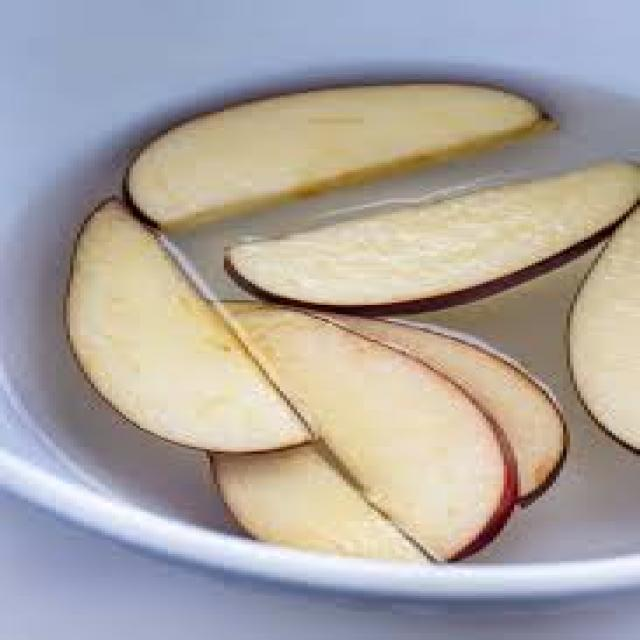Apple: (45, 201, 301, 474), (240, 306, 503, 543), (115, 76, 549, 187), (226, 188, 631, 302), (570, 204, 640, 450), (210, 454, 353, 546)
